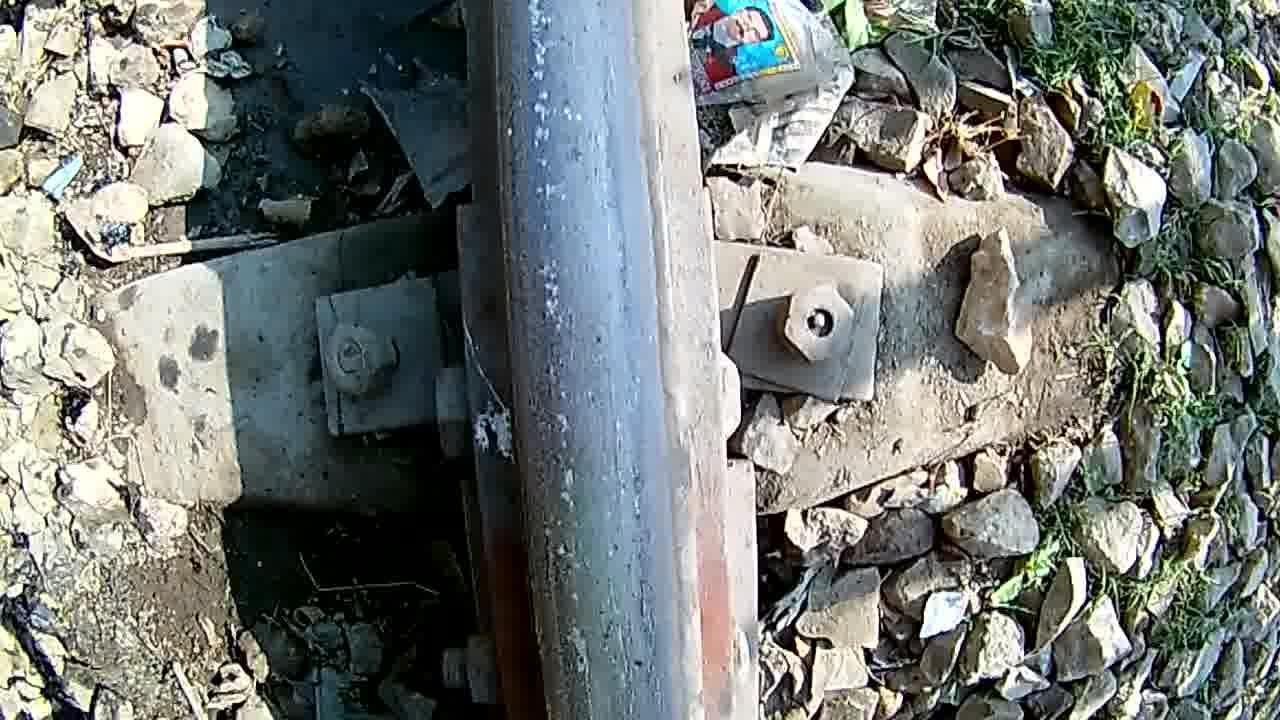crack: (490, 0, 692, 720)
